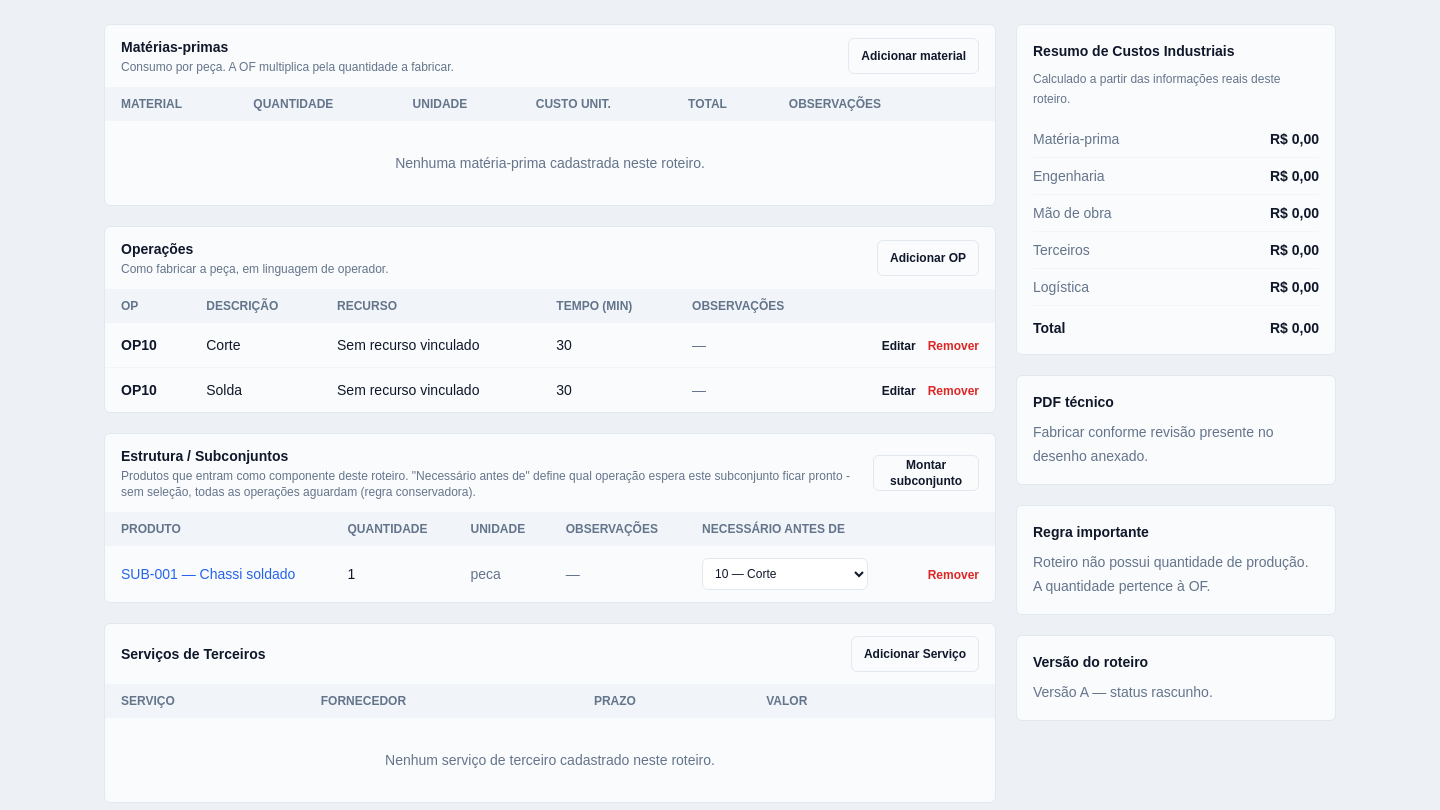
Test: RoteiroForm - vínculo do subconjunto (Necessário antes de) › falha ao trocar mostra mensagem clara; como o vínculo não é recarregado em caso de erro, a seleção visual permanece no valor persistido
Select "10 — Solda" in the dropdown named "Sem seleção: TODAS as operações deste roteiro aguardam este" at point(785, 574), box [702,558,868,590]
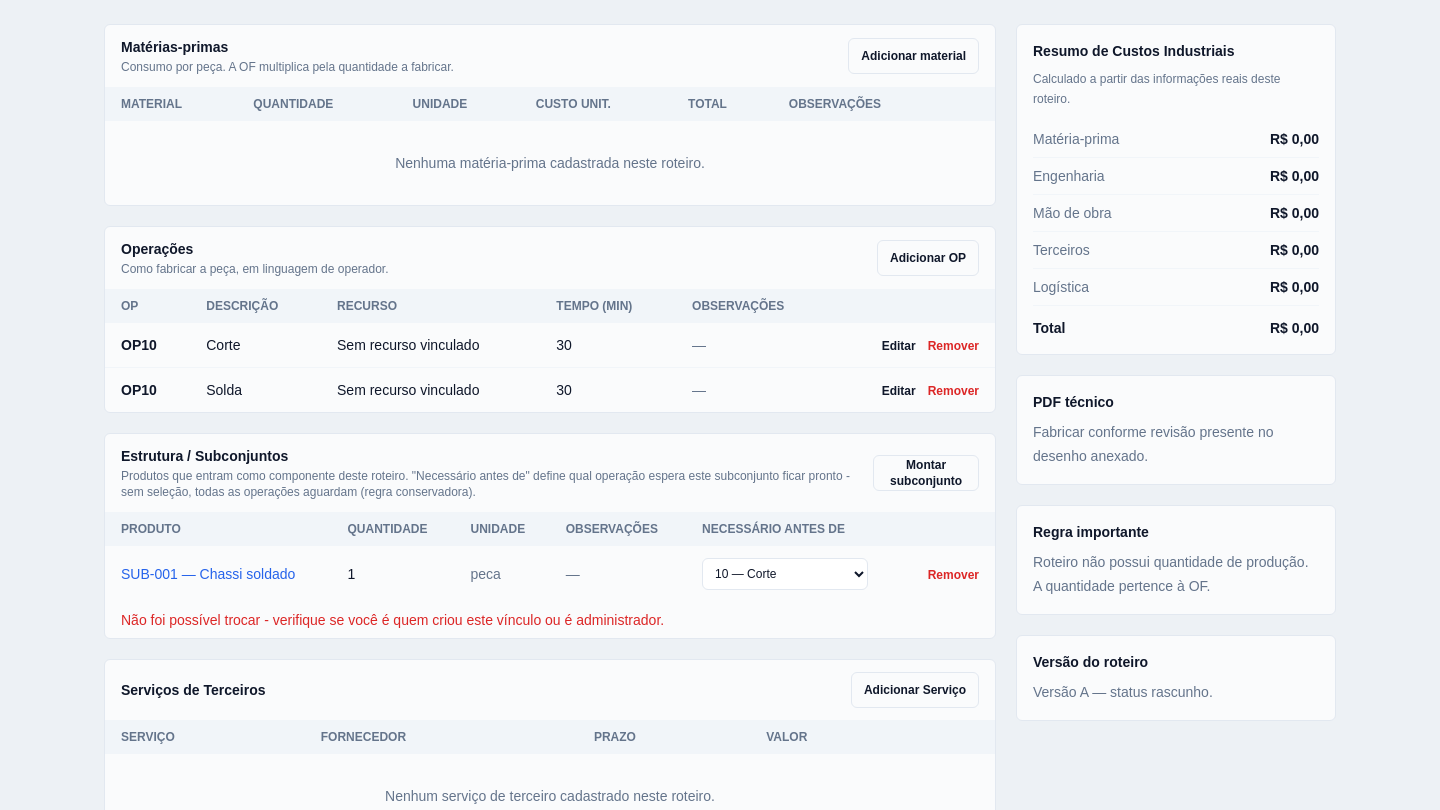
Result: the text "Não foi possível trocar - verifique se você é quem criou este vínculo ou é administrador." is shown at [121,612,664,628]
